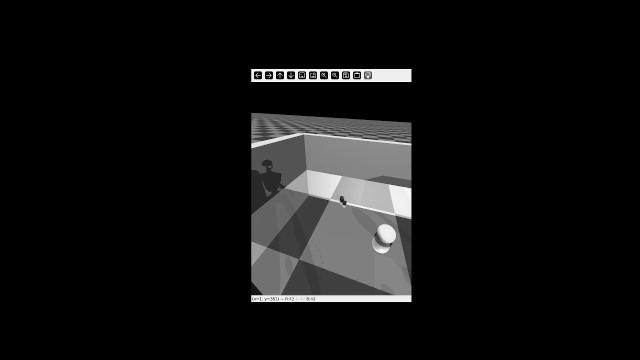cuadrado: (339, 198, 345, 202), (342, 201, 348, 204), (339, 195, 344, 198)
esfera: (375, 221, 398, 246)
